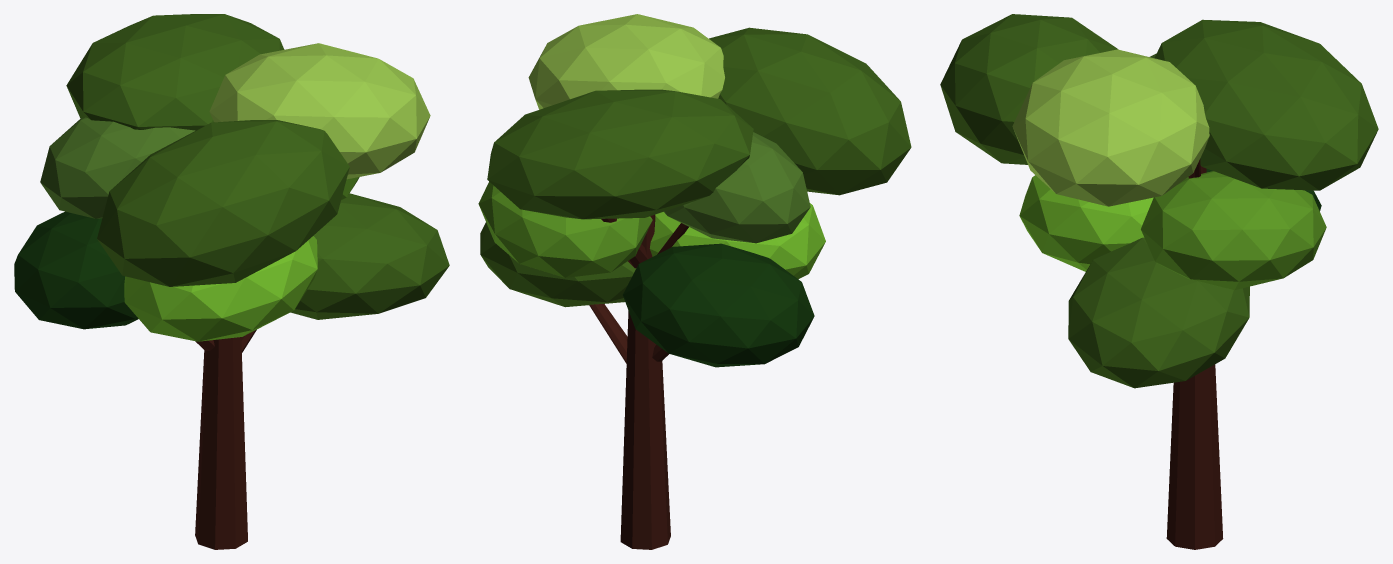
Rendered from tree.glb.
The picture shows the model from 3 angles, left to right: view 1: azimuth 30°, elevation 25°; view 2: azimuth 150°, elevation 25°; view 3: azimuth 270°, elevation 25°; orthographic projection. The views are drawn at different scales.
Visible parts, largest first — view 1: Icosphere.004; view 2: Icosphere.004; view 3: Icosphere.004.
Boxes of the visible parts, box(x1,y1,x2,y2) form: Icosphere.004: box(14, 14, 449, 549); Icosphere.004: box(478, 14, 911, 549); Icosphere.004: box(940, 14, 1378, 549).
Size of the model in its own units: 3.95 by 4.92 by 3.95.
Materials: 1 (1 with a texture image).
